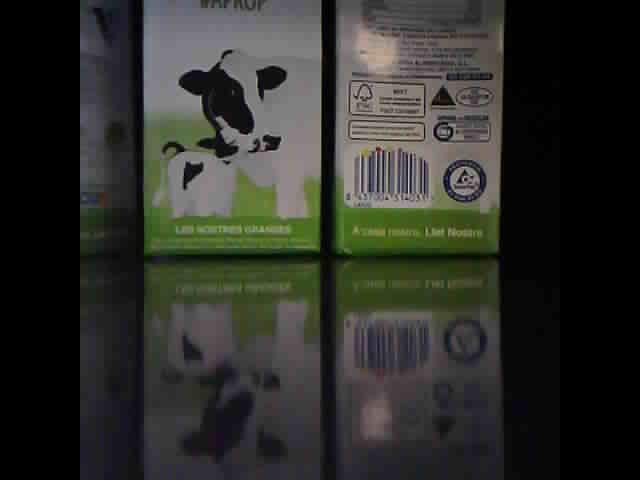leche: (142, 4, 322, 259), (333, 4, 502, 256), (79, 2, 132, 261)
